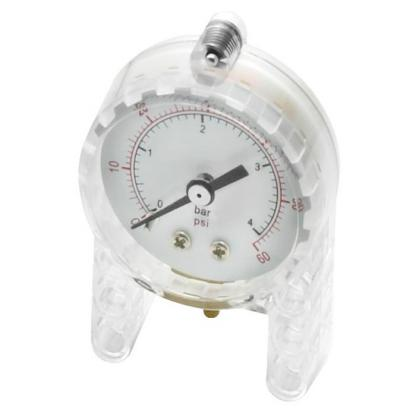needle: (131, 194, 191, 230)
